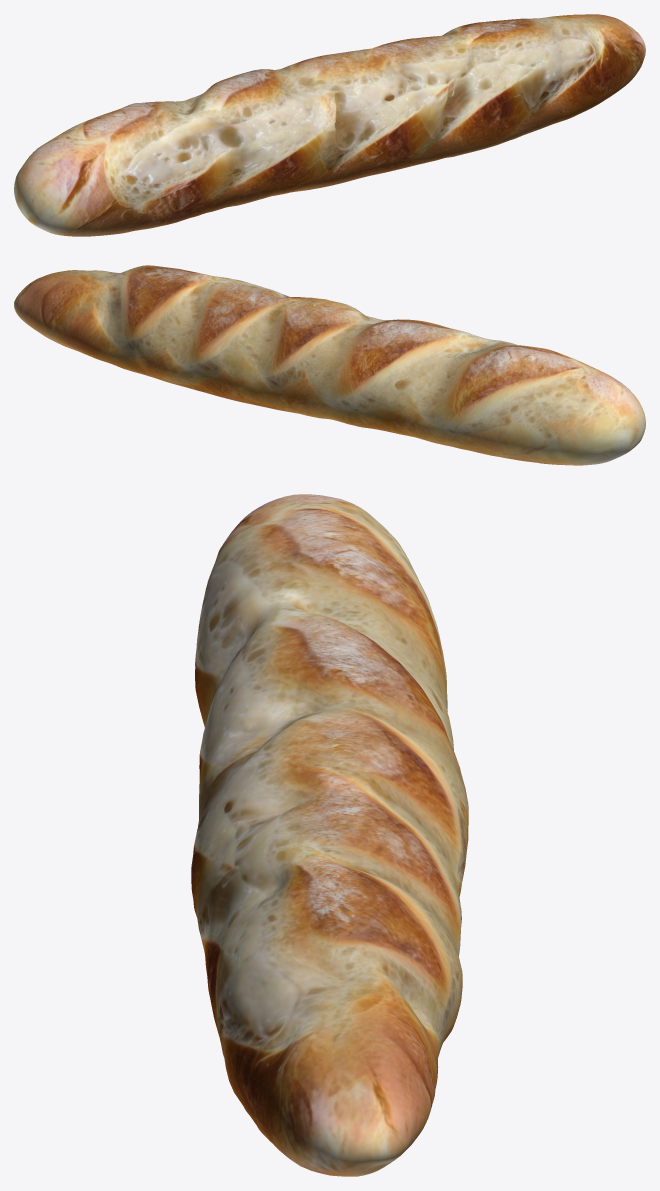
File: baguette.glb
3 views of the same model, one above another, from view 1: azimuth 30°, elevation 25°; view 2: azimuth 150°, elevation 25°; view 3: azimuth 270°, elevation 25° (orthographic). The views are drawn at different scales.
Bounding box in the file's own units: 2 × 0.3366 × 0.3955.
Materials: 1 (1 with a texture image).
